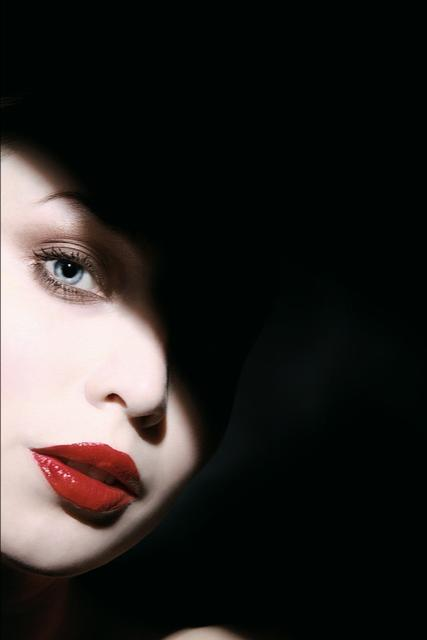Non_Gorille: (0, 103, 255, 611)
